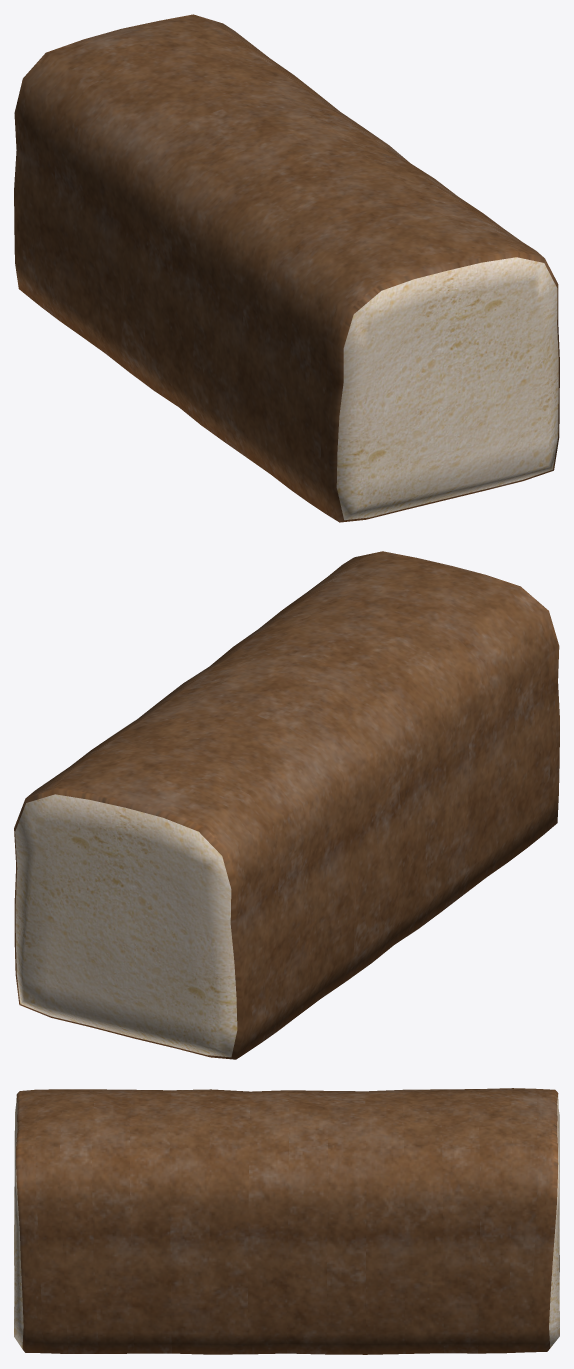
The model's file is Bread_28_whitebread_a_mesh.obj.
3 renders of one model, top to bottom at view 1: azimuth 30°, elevation 25°; view 2: azimuth 150°, elevation 25°; view 3: azimuth 270°, elevation 25°, orthographic. The views are drawn at different scales.
Bounding box in the file's own units: 0.1399 × 0.1424 × 0.3401.
